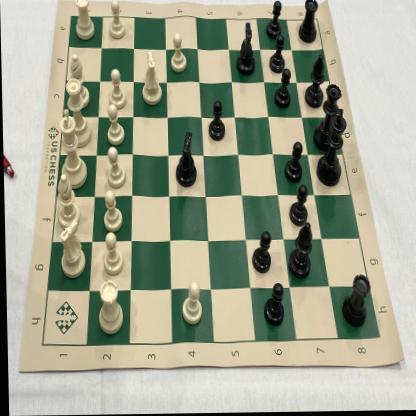black-bishop: (340, 275, 371, 328), (286, 224, 311, 279), (303, 55, 324, 110), (298, 0, 319, 43)
black-king: (315, 109, 346, 189)
black-knight: (174, 131, 198, 188), (235, 21, 256, 78)
black-pawn: (250, 230, 273, 275), (262, 283, 284, 328), (287, 186, 309, 229), (284, 140, 304, 185), (206, 99, 226, 141), (274, 68, 292, 110), (268, 36, 287, 75), (266, 0, 283, 39)
black-queen: (313, 84, 343, 153)
white-bishop: (55, 175, 80, 231), (68, 54, 90, 109)
white-king: (58, 109, 87, 191)
white-knight: (56, 221, 86, 278), (141, 50, 162, 106)
white-pawn: (98, 233, 124, 277), (98, 191, 123, 235), (102, 146, 127, 189), (180, 283, 202, 329), (106, 68, 127, 110), (105, 105, 125, 146), (169, 33, 187, 75), (108, 0, 126, 41)
white-queen: (64, 77, 92, 149)
white-rook: (96, 280, 122, 336), (74, 0, 95, 40)
